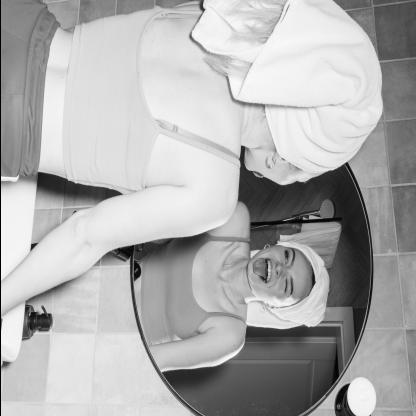Eye: (282, 249, 288, 265), (282, 276, 288, 292)
Mouth: (252, 256, 272, 284)
Nose: (272, 260, 284, 278)
